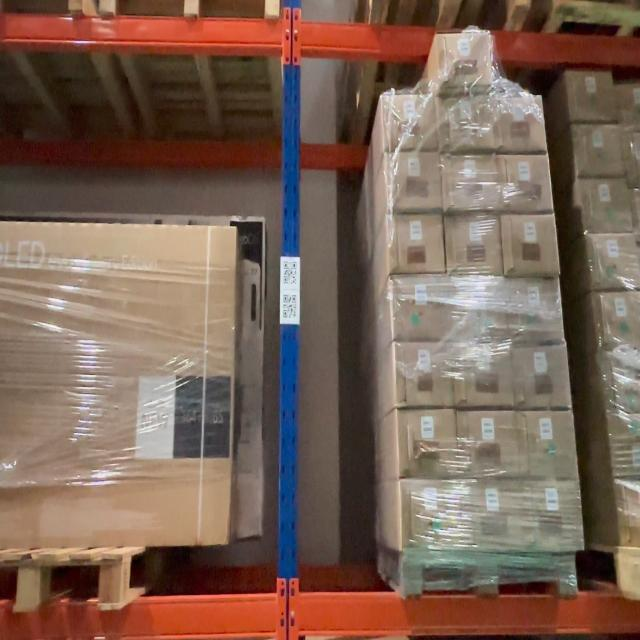box: (0, 232, 243, 546), (404, 482, 465, 549), (398, 410, 454, 478), (459, 412, 518, 476), (524, 483, 580, 549), (391, 275, 446, 340), (450, 276, 505, 340), (397, 345, 454, 405), (522, 413, 574, 478), (469, 483, 520, 547), (458, 346, 512, 406), (503, 214, 556, 274), (516, 346, 568, 406), (511, 279, 561, 341), (392, 213, 444, 272), (440, 32, 492, 90), (447, 216, 499, 272), (386, 95, 437, 150), (391, 150, 439, 208), (444, 157, 496, 210), (500, 156, 550, 211), (442, 96, 491, 149), (584, 180, 630, 231), (600, 290, 640, 347), (498, 97, 541, 148), (592, 237, 634, 289), (577, 127, 619, 177), (572, 73, 613, 121), (609, 351, 640, 412), (612, 412, 640, 477), (621, 483, 640, 545), (617, 83, 640, 126), (623, 132, 640, 182), (631, 188, 639, 232)
